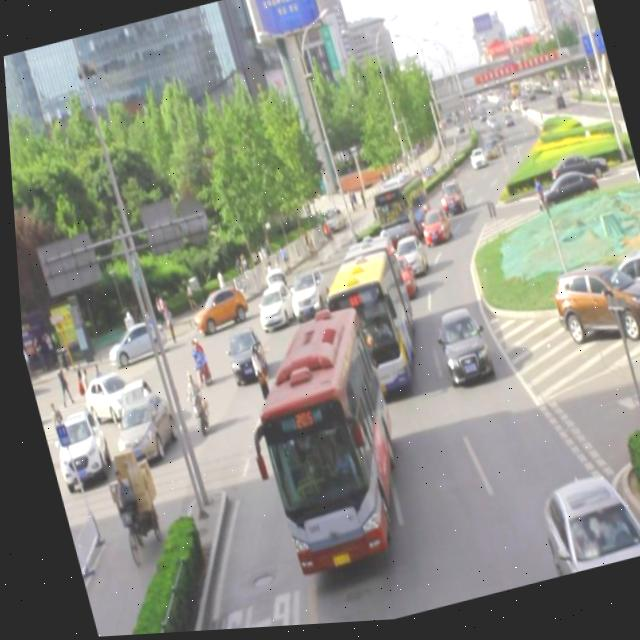car: (528, 469, 640, 584), (270, 347, 336, 426), (429, 310, 490, 395), (185, 287, 247, 339), (218, 327, 266, 388), (281, 267, 329, 325), (347, 244, 398, 297), (248, 281, 294, 337), (385, 236, 429, 288), (375, 257, 416, 308), (413, 211, 451, 254), (432, 181, 465, 225)
van: (235, 312, 411, 579), (311, 238, 421, 408), (367, 174, 434, 254)
